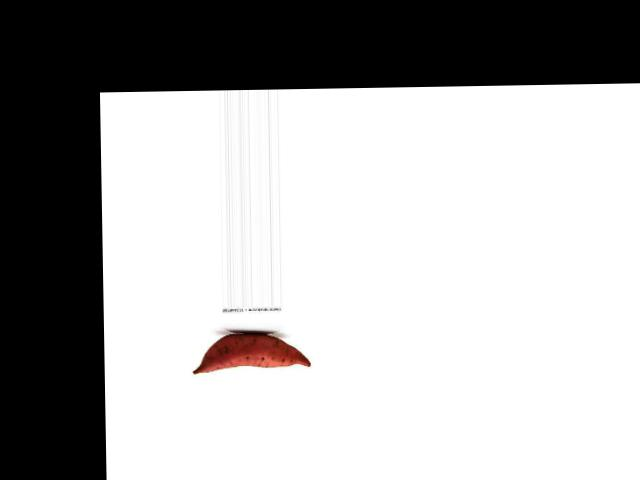sweet_potato: (191, 331, 312, 380)
